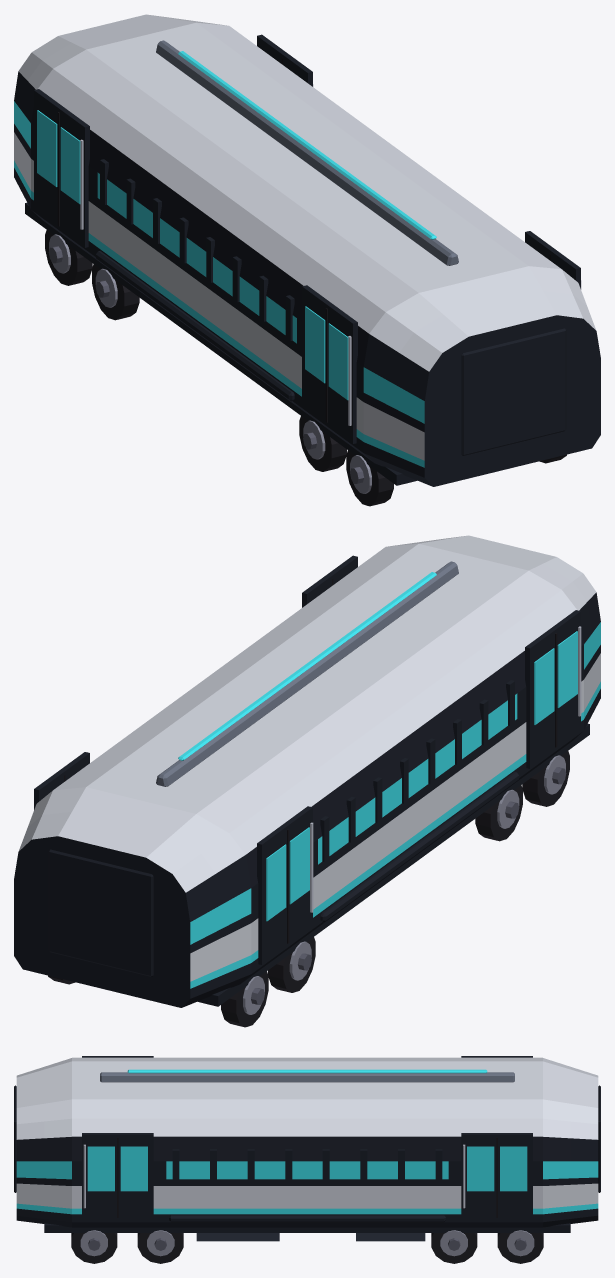
File: future-wagon.glb
3 renders of one model, top to bottom at view 1: azimuth 30°, elevation 25°; view 2: azimuth 150°, elevation 25°; view 3: azimuth 270°, elevation 25°, orthographic. The views are drawn at different scales.
Visible parts, largest first — view 1: FutureWagon; view 2: FutureWagon; view 3: FutureWagon.
Boxes of the visible parts, x1,y1,x2,y2 form: FutureWagon: (14,14,600,506); FutureWagon: (14,535,600,1027); FutureWagon: (14,1056,600,1263).
Bounding box in the file's own units: 1.38 × 1.28 × 4.24.
1 material, 1 textured.
